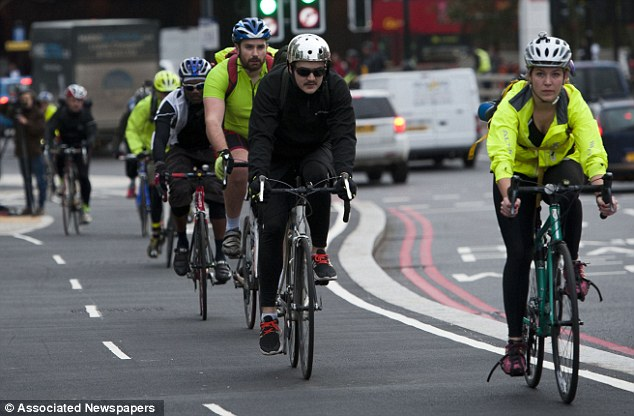helmet: (523, 37, 572, 102), (287, 32, 333, 94), (232, 16, 271, 71), (178, 56, 212, 106), (64, 83, 88, 111)
